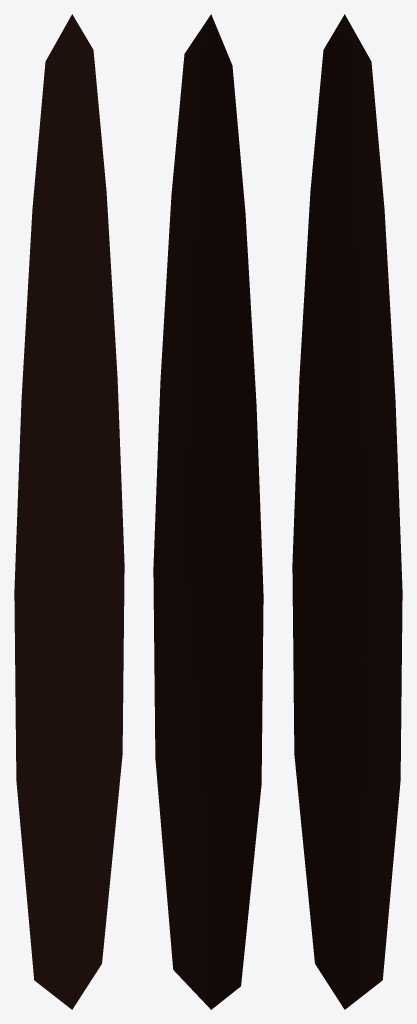
File: pheasant_feather_flight_primary_001.obj
3 views of the same model, side by side, from view 1: azimuth 30°, elevation 25°; view 2: azimuth 150°, elevation 25°; view 3: azimuth 330°, elevation 25° (orthographic).
Parts seen in each view (by area): view 1: feather_flight_primary_001; view 2: feather_flight_primary_001; view 3: feather_flight_primary_001.
Part boxes in pixels (<box>): feather_flight_primary_001: <box>14,14,124,1009</box>; feather_flight_primary_001: <box>153,14,263,1009</box>; feather_flight_primary_001: <box>292,14,402,1009</box>.
Bounding box in the file's own units: 0.0125 × 0.1083 × 0.000811.
